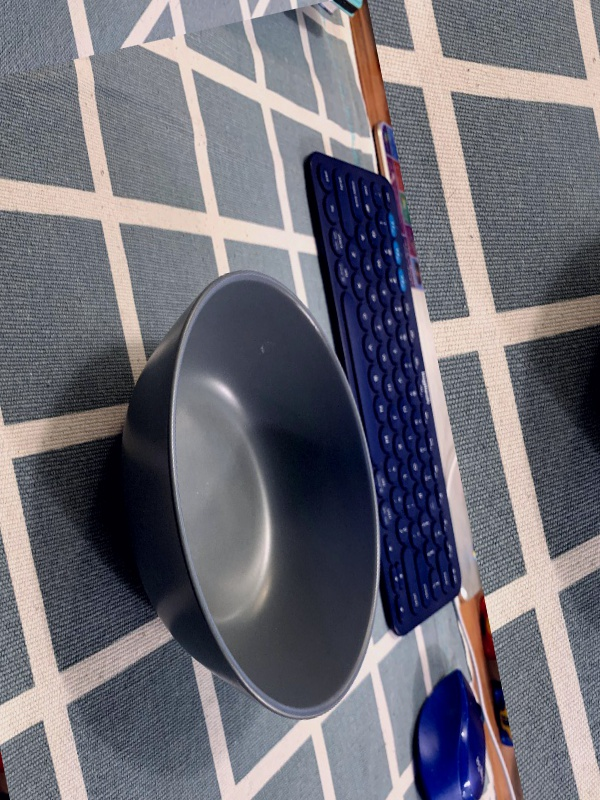bowl_big: (75, 242, 422, 762)
